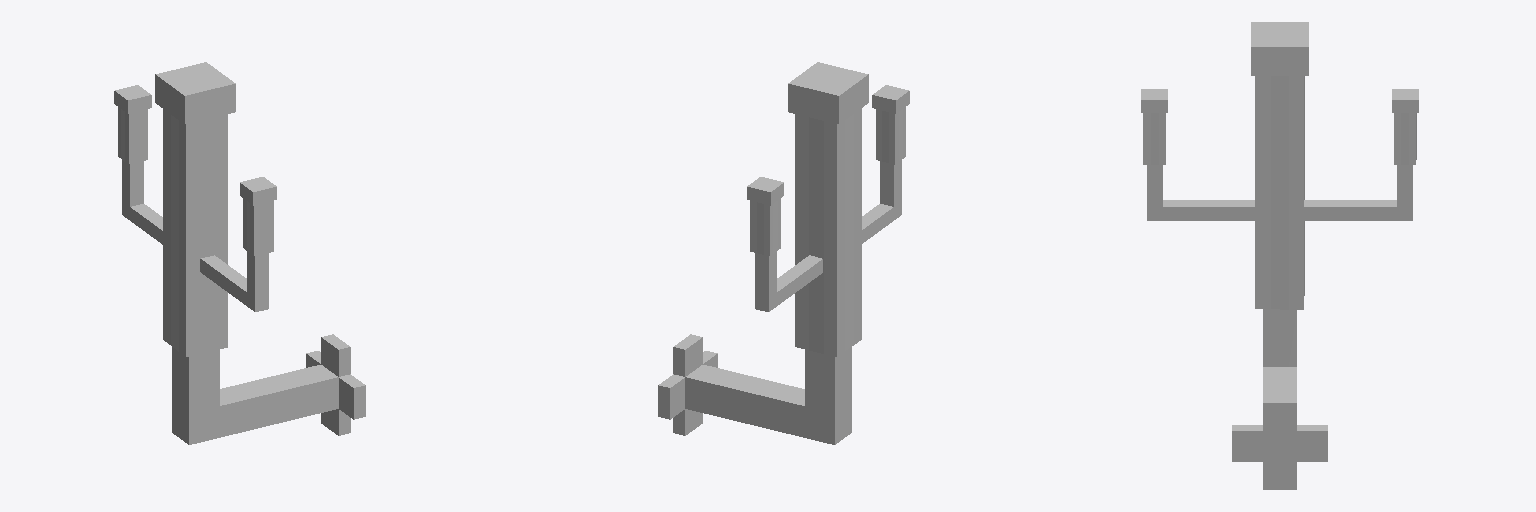
Rendered from Torch3.obj.
3 views of the same model, side by side, from view 1: azimuth 30°, elevation 25°; view 2: azimuth 150°, elevation 25°; view 3: azimuth 270°, elevation 25° (orthographic).
Parts seen in each view (by area): view 1: polySurface17; view 2: polySurface17; view 3: polySurface17.
Part boxes in pixels (bbox=[...]): polySurface17: bbox=[114, 62, 365, 444]; polySurface17: bbox=[658, 62, 909, 444]; polySurface17: bbox=[1141, 22, 1418, 489].
Bounding box in the file's own units: 0.1317 × 0.2811 × 0.1846.